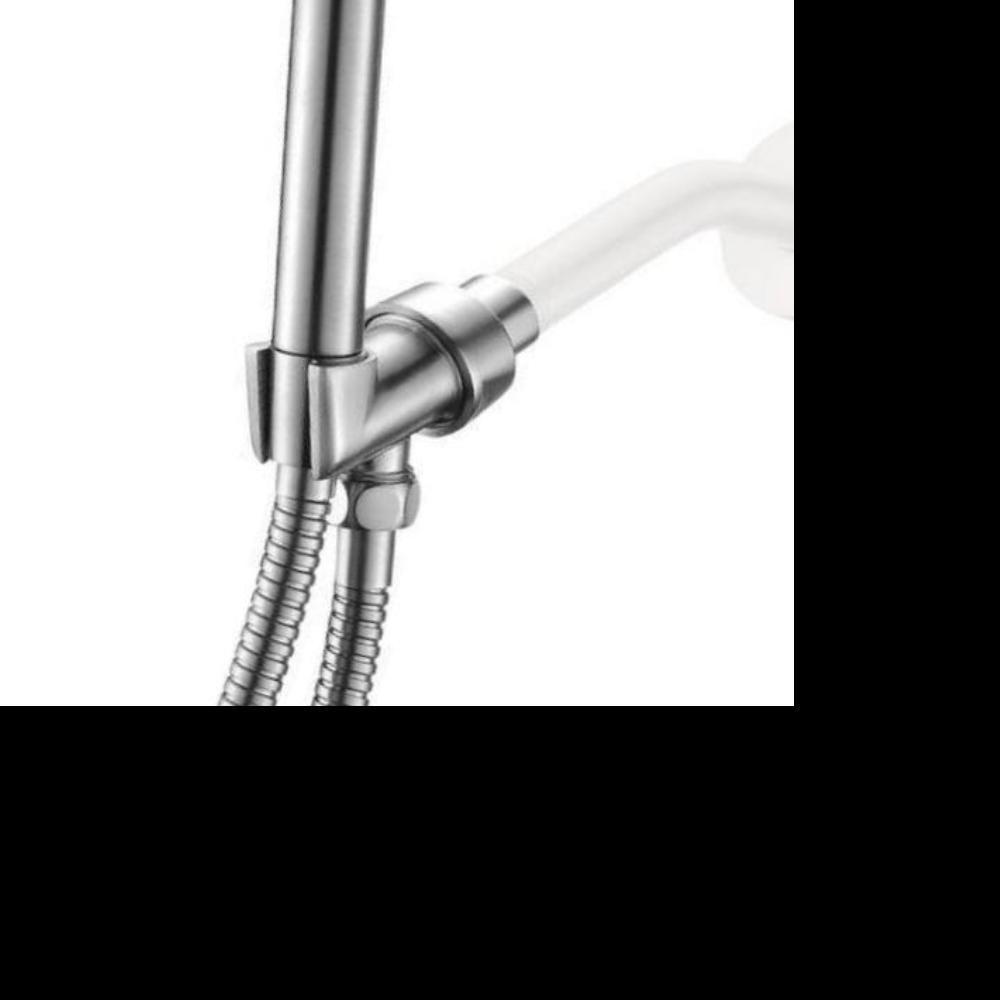Ducha: (18, 0, 917, 909)
